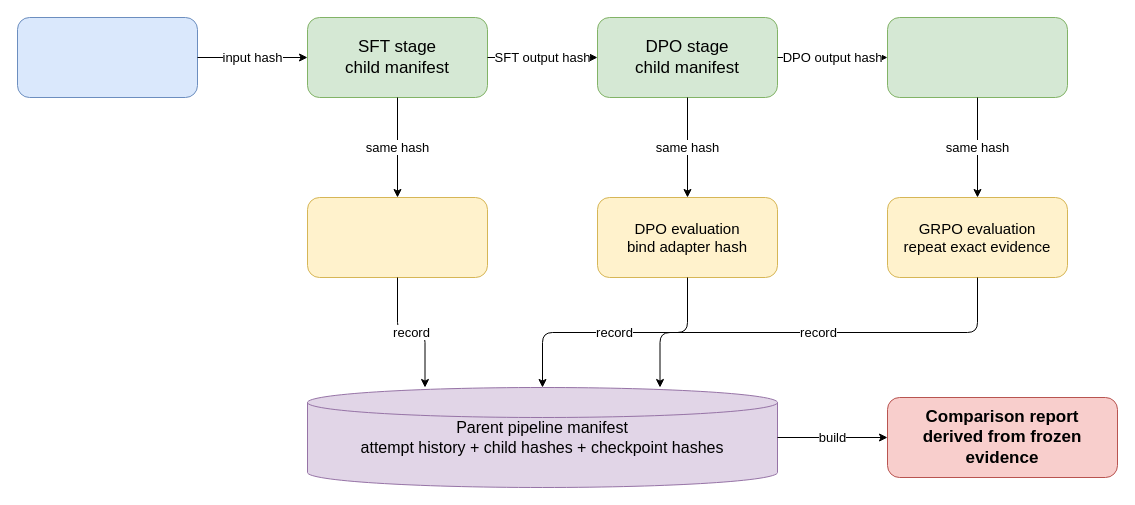
This 1135x505 diagram has some shape labels left out. Each missing label, with the centre of its shape:
Base model revision hash: point 107,57
GRPO stage child manifest: point 977,57
SFT evaluation bind adapter hash: point 397,237
